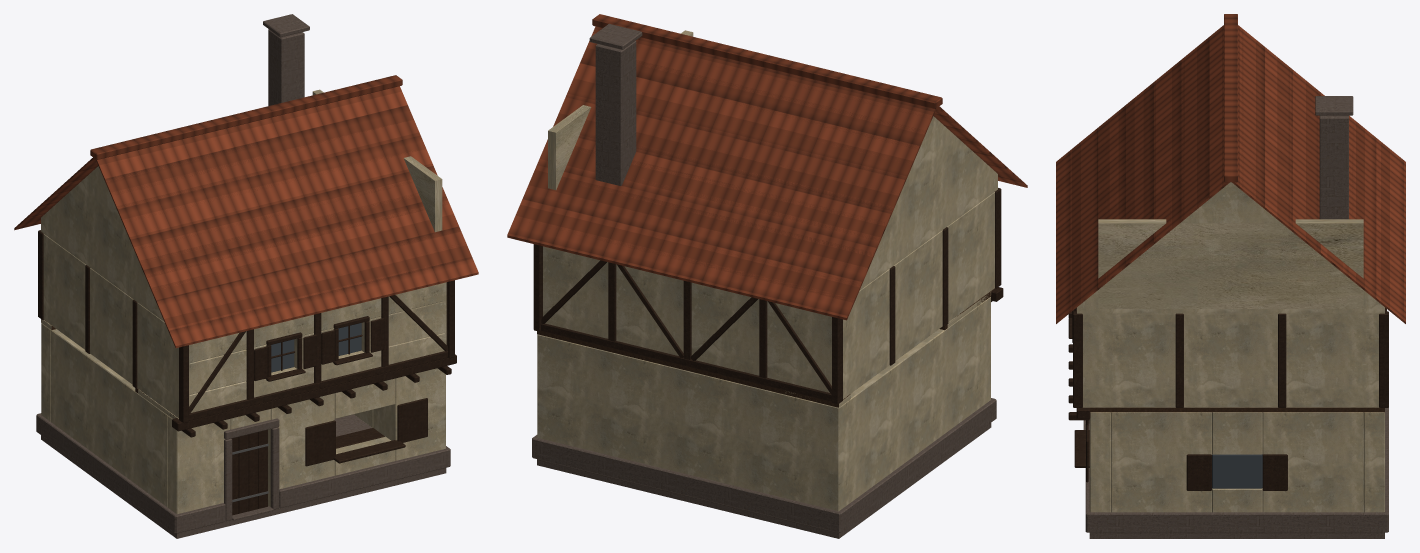
File: l_town_house.glb
The picture shows the model from 3 angles, left to right: view 1: azimuth 30°, elevation 25°; view 2: azimuth 150°, elevation 25°; view 3: azimuth 270°, elevation 25°; orthographic projection. The views are drawn at different scales.
Visible parts, largest first — view 1: front pier W, roof tile row, roof tile row.001, shop sill board, floor, gable-colonly.001, east window, Door entry plank.001, Door entry plank.002, Door entry plank.003, shop counter; view 2: front pier W, roof tile row, roof tile row.001, floor, shop sill board, gable-colonly.001, upper floor; view 3: front pier W, roof tile row, roof tile row.001, gable-colonly.001, floor, shop sill board, east window, upper floor, upper side infill-colonly.001.
Boxes of the visible parts, <box> form: front pier W: <box>41,166,446,514</box>; roof tile row: <box>14,91,478,348</box>; roof tile row.001: <box>20,75,472,334</box>; shop sill board: <box>38,230,456,466</box>; floor: <box>36,14,450,538</box>; gable-colonly.001: <box>312,89,442,232</box>; east window: <box>271,323,361,372</box>; Door entry plank.001: <box>238,434,248,513</box>; Door entry plank.002: <box>248,432,258,511</box>; Door entry plank.003: <box>258,429,267,508</box>; shop counter: <box>336,428,384,448</box>; front pier W: <box>537,116,997,511</box>; roof tile row: <box>507,32,1027,320</box>; roof tile row.001: <box>515,14,1020,302</box>; floor: <box>532,23,996,538</box>; shop sill board: <box>533,188,1003,404</box>; gable-colonly.001: <box>548,30,693,190</box>; upper floor: <box>537,288,994,407</box>; front pier W: <box>1077,182,1384,512</box>; roof tile row: <box>1056,27,1405,323</box>; roof tile row.001: <box>1068,14,1393,313</box>; gable-colonly.001: <box>1098,219,1363,308</box>; floor: <box>1083,96,1388,538</box>; shop sill board: <box>1068,307,1388,490</box>; east window: <box>1212,454,1262,488</box>; upper floor: <box>1090,407,1384,412</box>; upper side infill-colonly.001: <box>1082,313,1379,407</box>.
Size of what is drawn, in the model's own units: 9.1 by 10.75 by 8.3.
9 materials, 6 textured.
